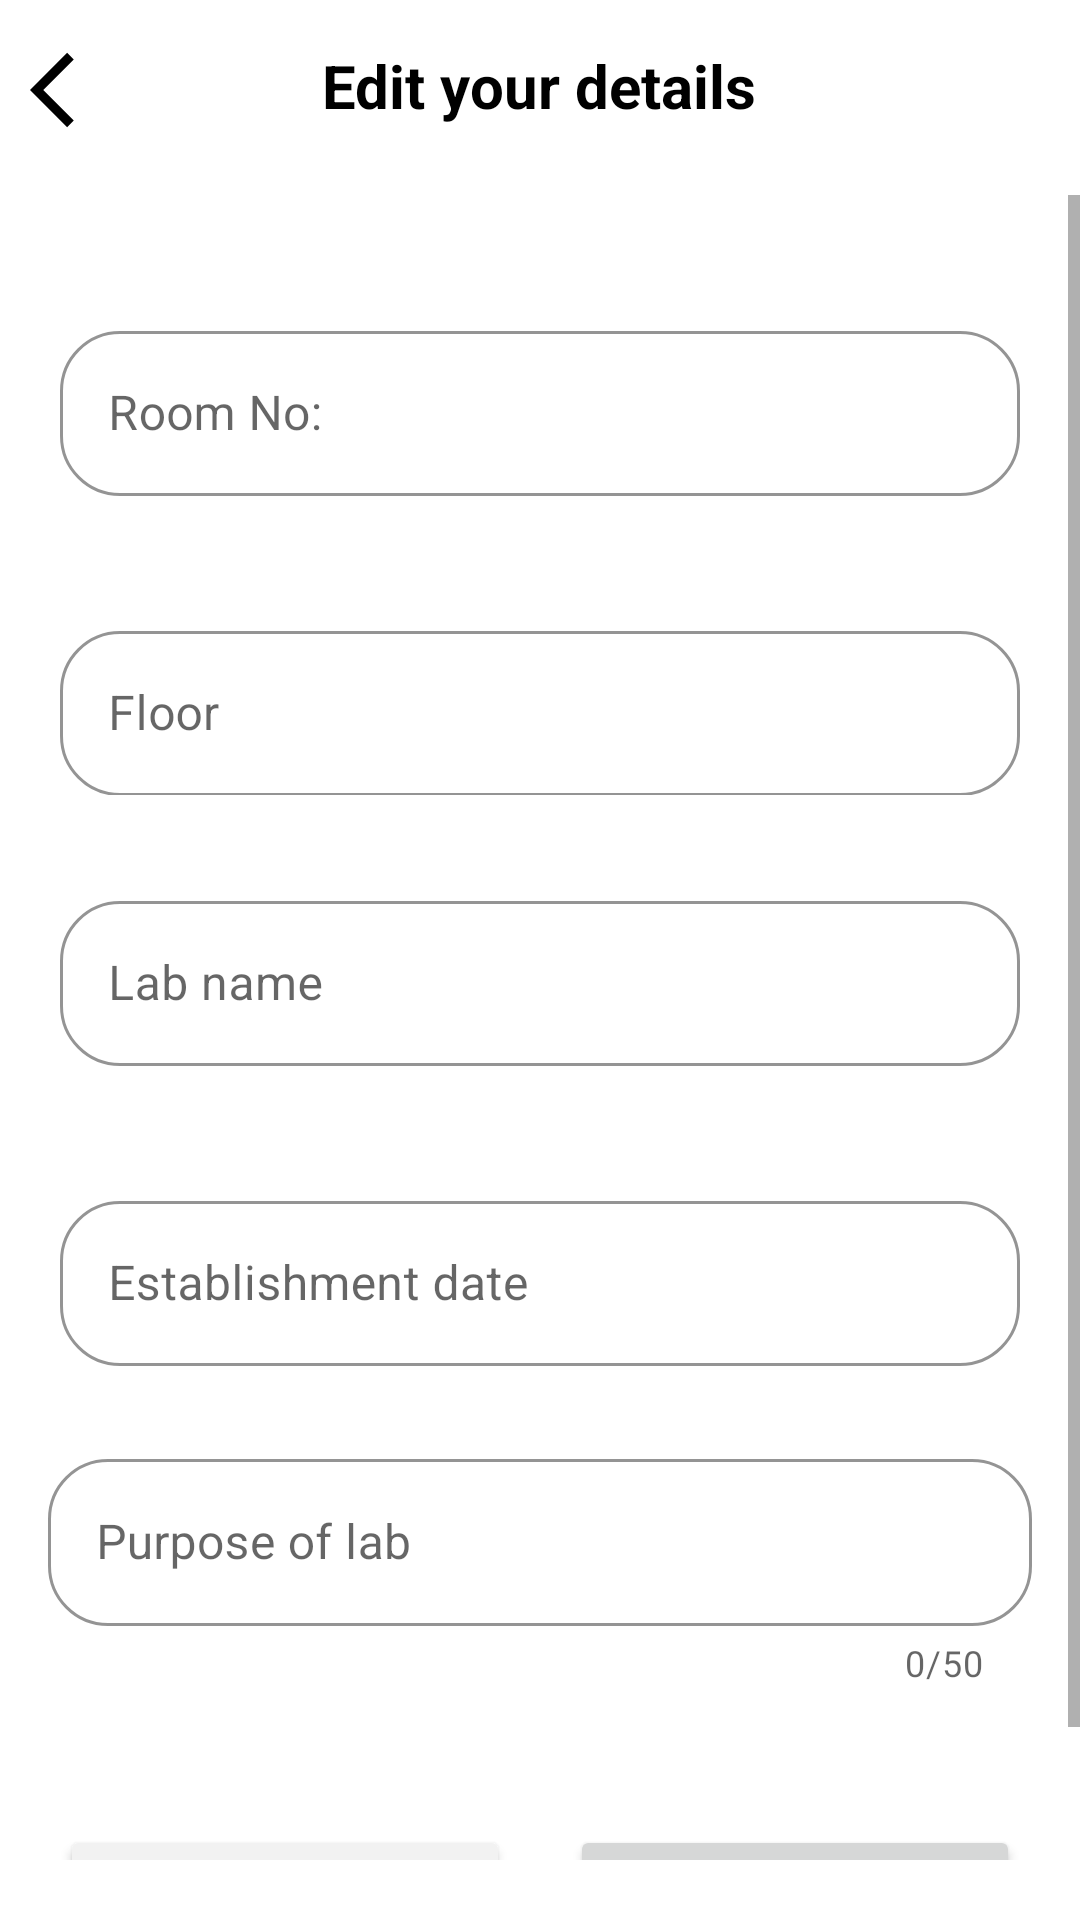

Screen size 1080w x 1920h. Icon name, then its box in pixels as (x1, y1, x2, y2):
arrow back: (30, 53, 74, 127)
